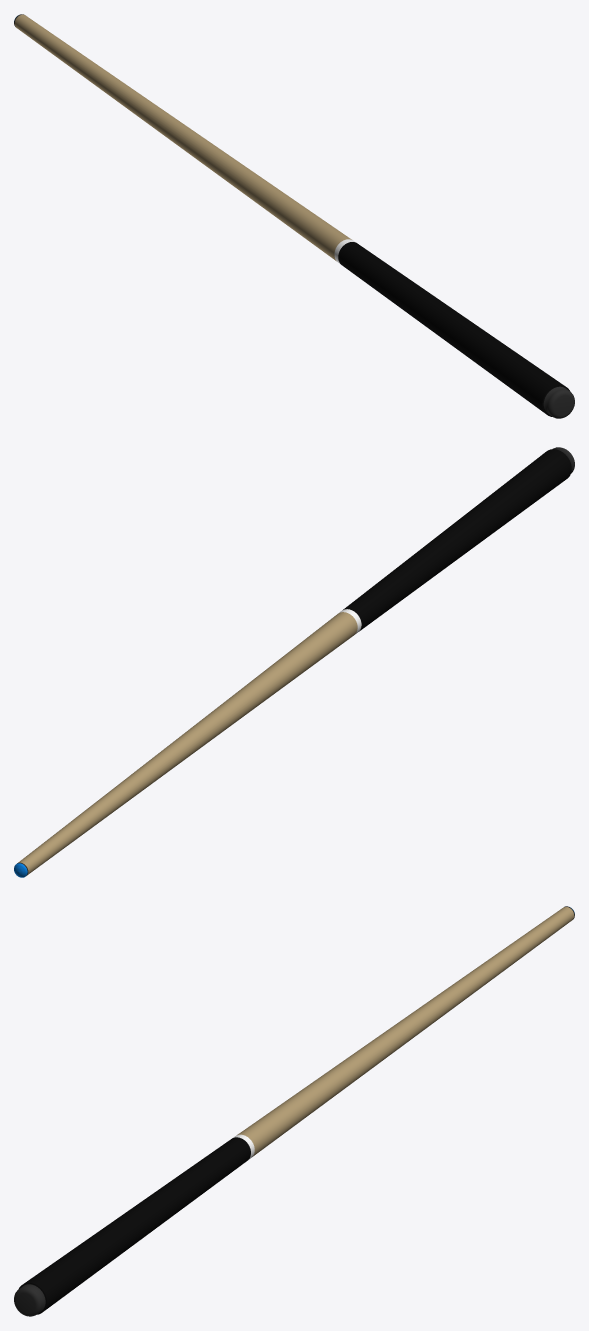
Rendered from Stick.fbx.
3 renders of one model, top to bottom at view 1: azimuth 30°, elevation 25°; view 2: azimuth 150°, elevation 25°; view 3: azimuth 330°, elevation 25°, orthographic.
Visible parts, largest first — view 1: Cylindre.002; view 2: Cylindre.002; view 3: Cylindre.002.
Boxes of the visible parts, x1,y1,x2,y2 form: Cylindre.002: [14, 14, 574, 418]; Cylindre.002: [14, 447, 574, 877]; Cylindre.002: [14, 906, 574, 1316].
Size of the model in its own units: 3.98 by 4.2 by 127.
